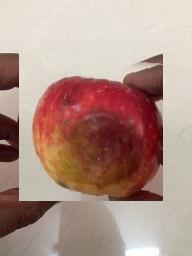Apple Semirotten: (19, 53, 163, 201)
